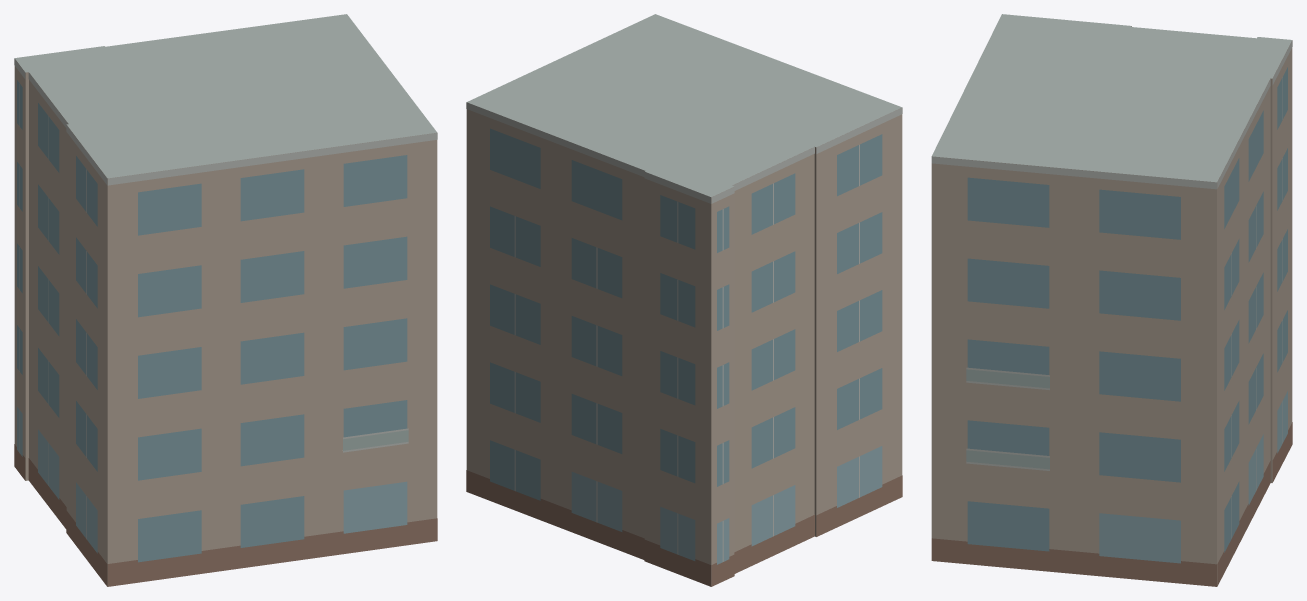
File: survey-upis-32917447.glb
3 renders of one model, left to right at view 1: azimuth 30°, elevation 25°; view 2: azimuth 150°, elevation 25°; view 3: azimuth 270°, elevation 25°, orthographic. The views are drawn at different scales.
Visible parts, largest first — view 1: survey-upis-32917447.tmp; view 2: survey-upis-32917447.tmp; view 3: survey-upis-32917447.tmp.
Boxes of the visible parts, <box> form: survey-upis-32917447.tmp: <box>14,14,437,586</box>; survey-upis-32917447.tmp: <box>466,14,902,586</box>; survey-upis-32917447.tmp: <box>931,14,1292,586</box>.
Size of the model in its own units: 12.5 by 14 by 11.33.
